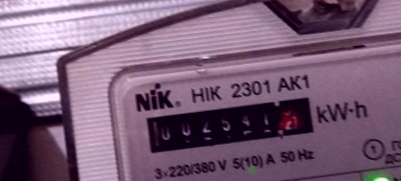0: (158, 117, 173, 139), (178, 113, 193, 135)
1: (258, 101, 272, 125)
2: (198, 109, 215, 133)
4: (239, 104, 252, 126)
5: (218, 107, 234, 131)
6: (282, 114, 295, 128)
screen: (133, 83, 327, 159)
